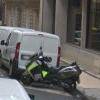Motorcycle: (13, 50, 82, 88)
